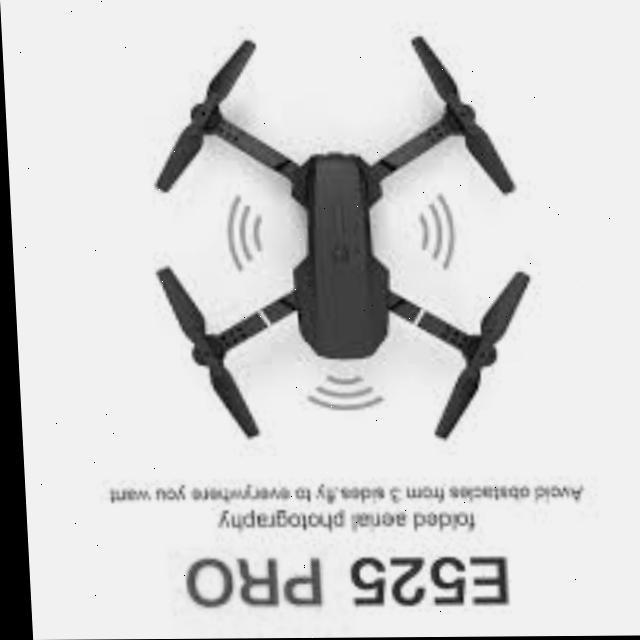drone: (134, 25, 562, 457)
